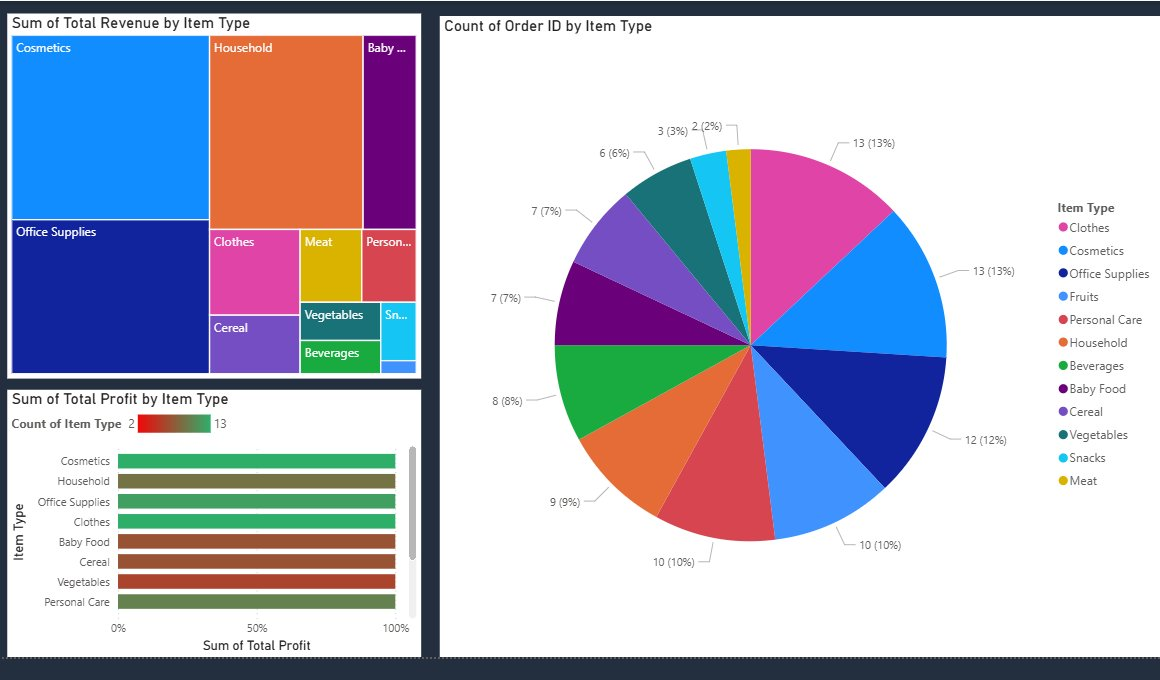

The dashboard page shown, as its layout file describes it:
{"tool":"powerbi","page":{"name":"Item Type Analysis","canvas":[1280,720],"ordinal":5},"visuals":[{"type":"treemap","fields":{"Group":["Amazon_Sales_Clean.Item Type"],"Values":["Sum(Amazon_Sales_Clean.Total Revenue)"]},"box":[12.3,13.7,454.2,400.7],"z":0},{"type":"hundredPercentStackedBarChart","fields":{"Category":["Amazon_Sales_Clean.Item Type"],"Y":["Sum(Amazon_Sales_Clean.Total Profit)"]},"box":[12.3,426.8,454.2,293.7],"z":1000},{"type":"pieChart","fields":{"Category":["Amazon_Sales_Clean.Item Type"],"Y":["CountNonNull(Amazon_Sales_Clean.Order ID)"]},"box":[487.1,16.5,793.1,703.9],"z":2000}]}

Visuals, with their boxes on the page's 1280x720 design canvas (x1, y1, x2, y2). These are canvas units, not pixel positions in the 1160x680 screenshot, which may show the page scaled, cropped or inside an application window:
treemap - Amazon_Sales_Clean.Item Type x Sum(Amazon_Sales_Clean.Total Revenue): 12, 14, 466, 414
hundredPercentStackedBarChart - Amazon_Sales_Clean.Item Type x Sum(Amazon_Sales_Clean.Total Profit): 12, 427, 466, 720
pieChart - Amazon_Sales_Clean.Item Type x CountNonNull(Amazon_Sales_Clean.Order ID): 487, 16, 1280, 720
